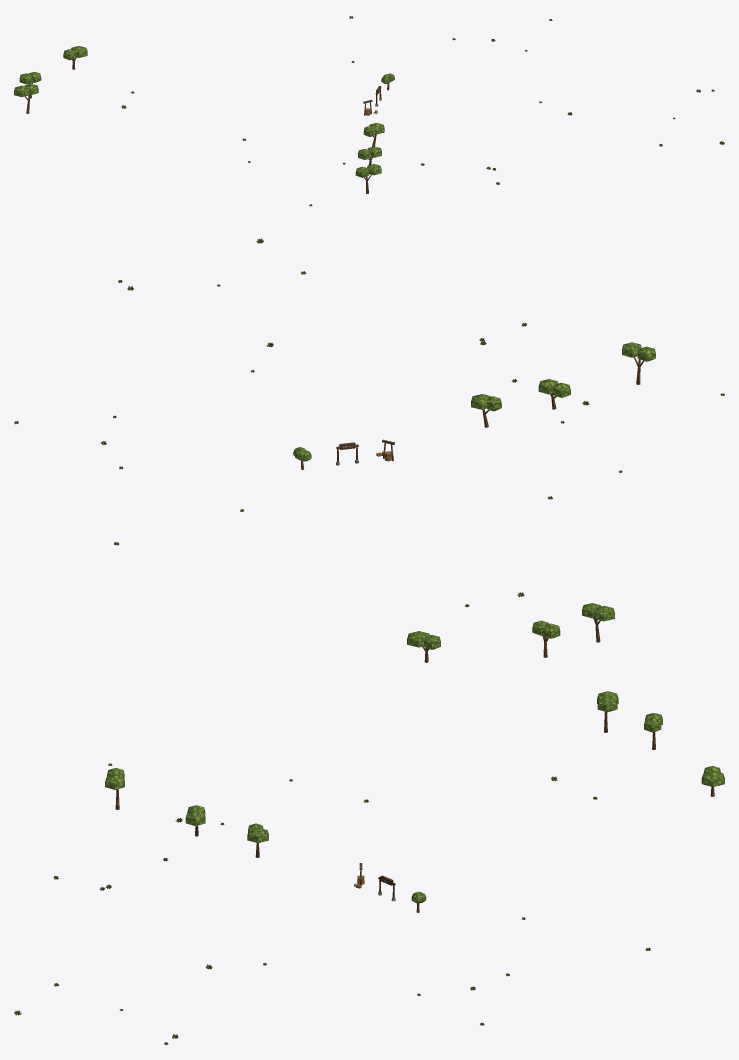
Rendered from FieldCell_1_1.fbx.
3 renders of one model, top to bottom at view 1: azimuth 30°, elevation 25°; view 2: azimuth 150°, elevation 25°; view 3: azimuth 270°, elevation 25°, orthographic. The views are drawn at different scales.
Parts seen in each view (by area): view 1: FieldCell_1_1; view 2: FieldCell_1_1; view 3: FieldCell_1_1.
Boxes of the visible parts, left/top/right/bottom form: FieldCell_1_1: left=14, top=46, right=394, bottom=193; FieldCell_1_1: left=293, top=342, right=655, bottom=662; FieldCell_1_1: left=105, top=691, right=724, bottom=912.
Bounding box in the file's own units: 15673 × 1450 × 13676.
